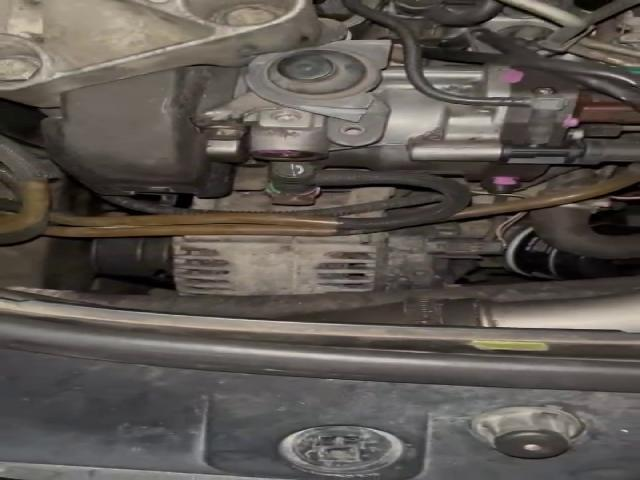alternator: (172, 232, 386, 295)
high_pressure_pump: (201, 66, 583, 192)
